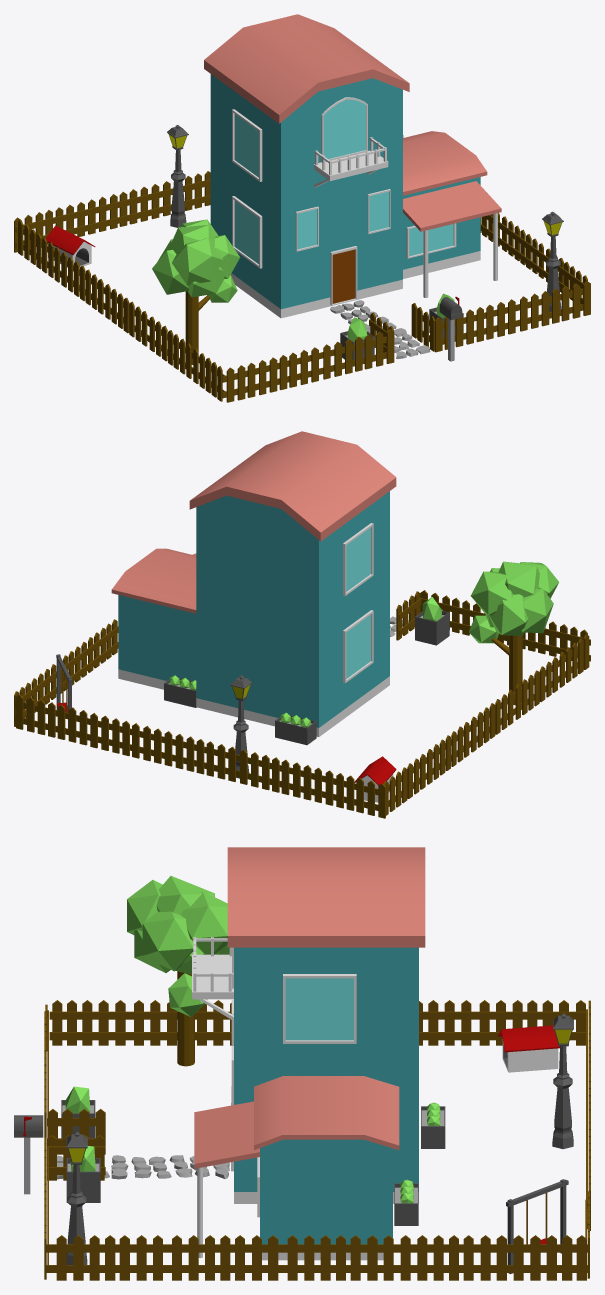
3 views of the same model, one above another, from view 1: azimuth 30°, elevation 25°; view 2: azimuth 150°, elevation 25°; view 3: azimuth 270°, elevation 25° (orthographic). The views are drawn at different scales.
Parts seen in each view (by area): view 1: ee11; view 2: ee11; view 3: ee11.
Boxes of the visible parts, x1,y1,x2,y2 form: ee11: (14,14,590,402); ee11: (14,431,590,818); ee11: (14,847,590,1280).
Bounding box in the file's own units: 25.84 × 15.23 × 25.76.
